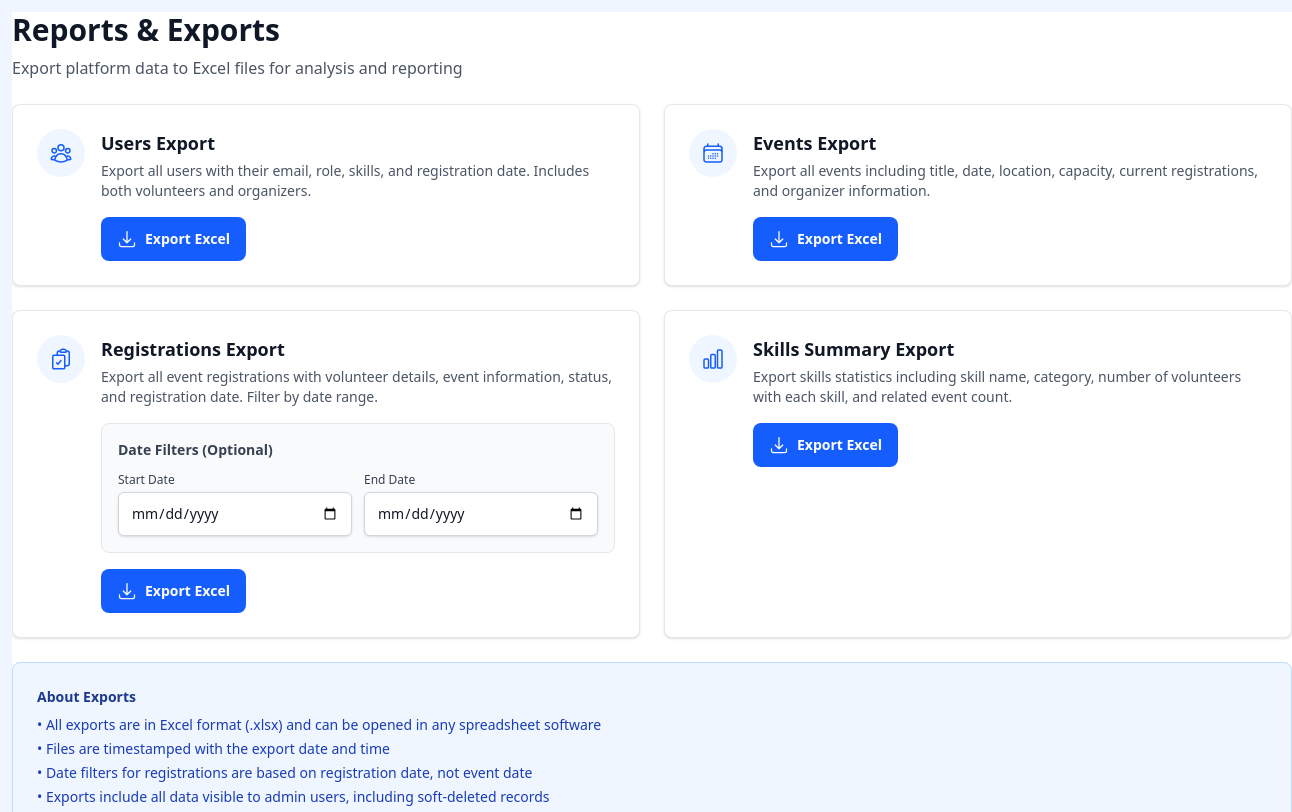
Test: AdminReportsPage › shows success state after successful export
Click the button "Export Excel" below "Users Export".
click(173, 239)  # box x1=101 y1=217 x2=246 y2=261
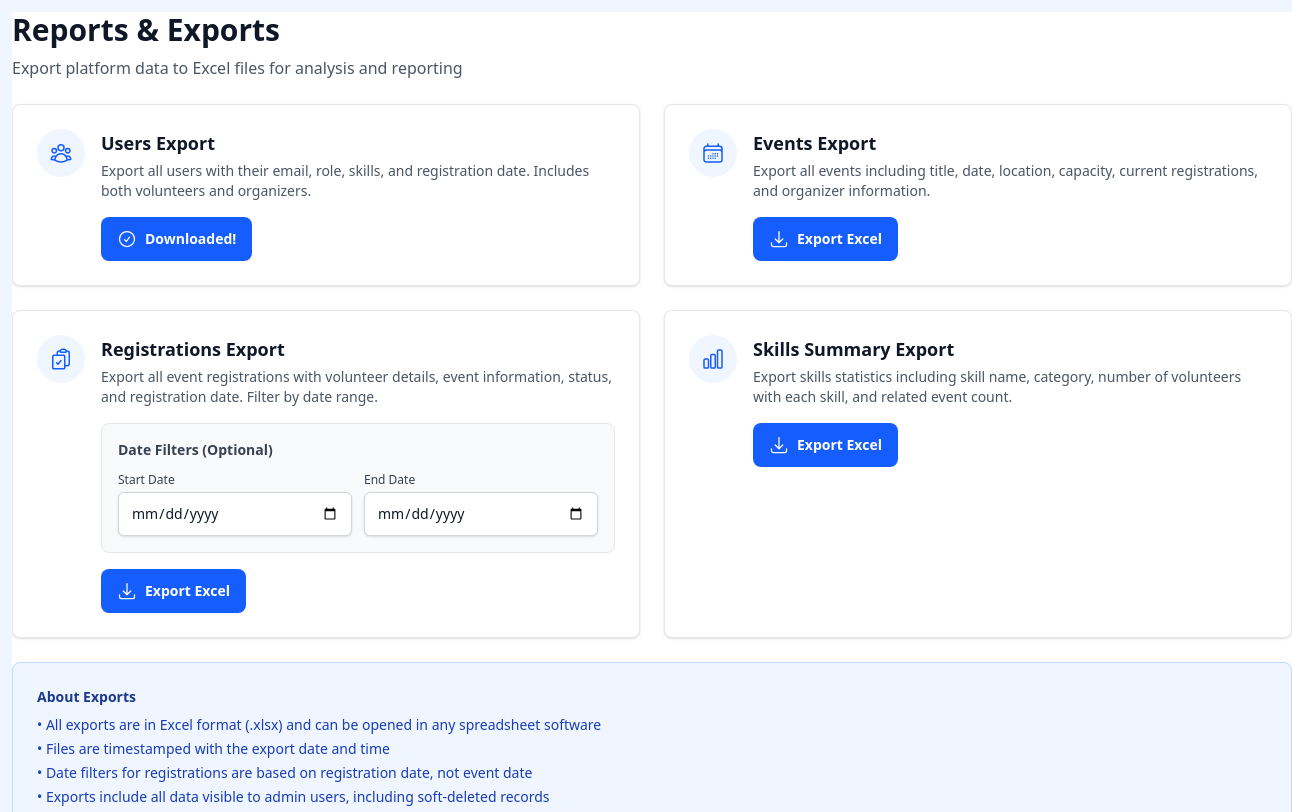
Result: the text "Downloaded!" is shown at x1=145 y1=229 x2=236 y2=249
